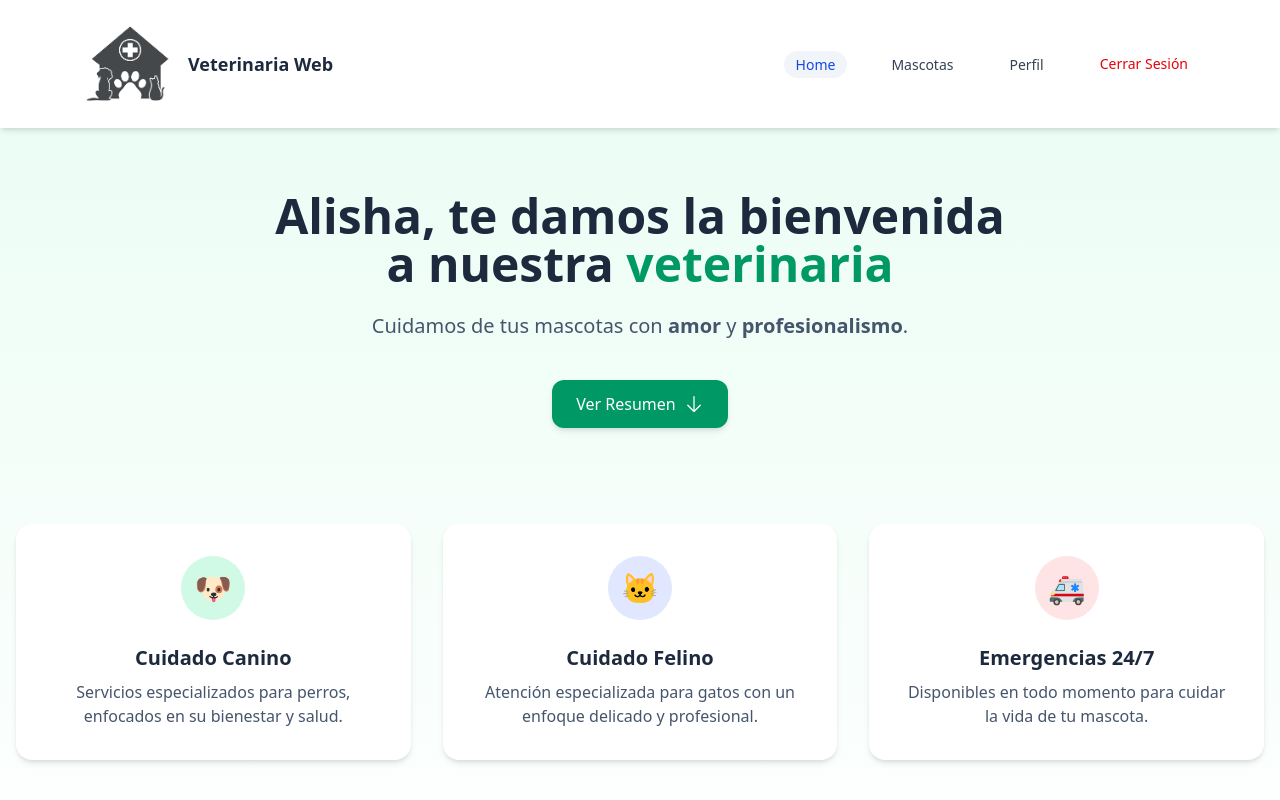
Pruebas Header › should open logout modal
Click the button with test id "logout-button". click: (1144,64)
box: left=1088, top=50, right=1200, bottom=78
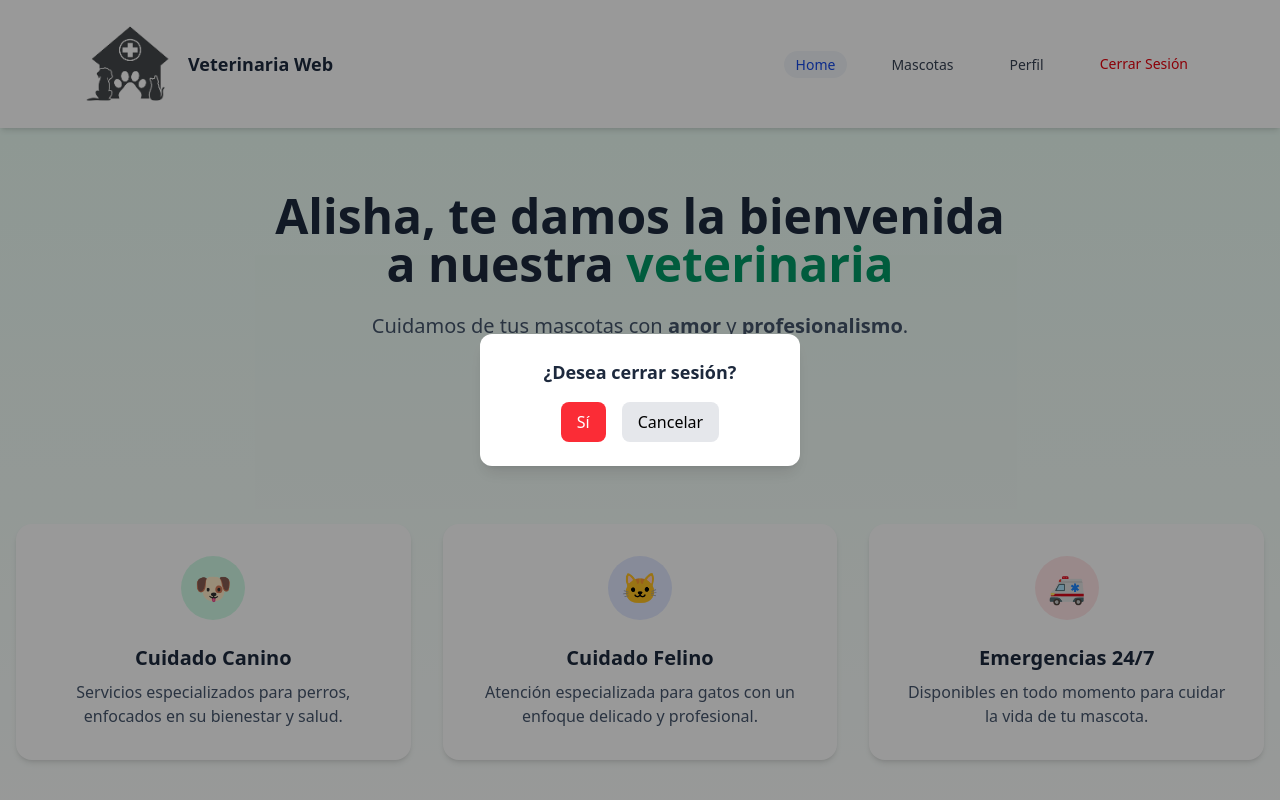
Expected: the element with test id "logout-modal" is shown
